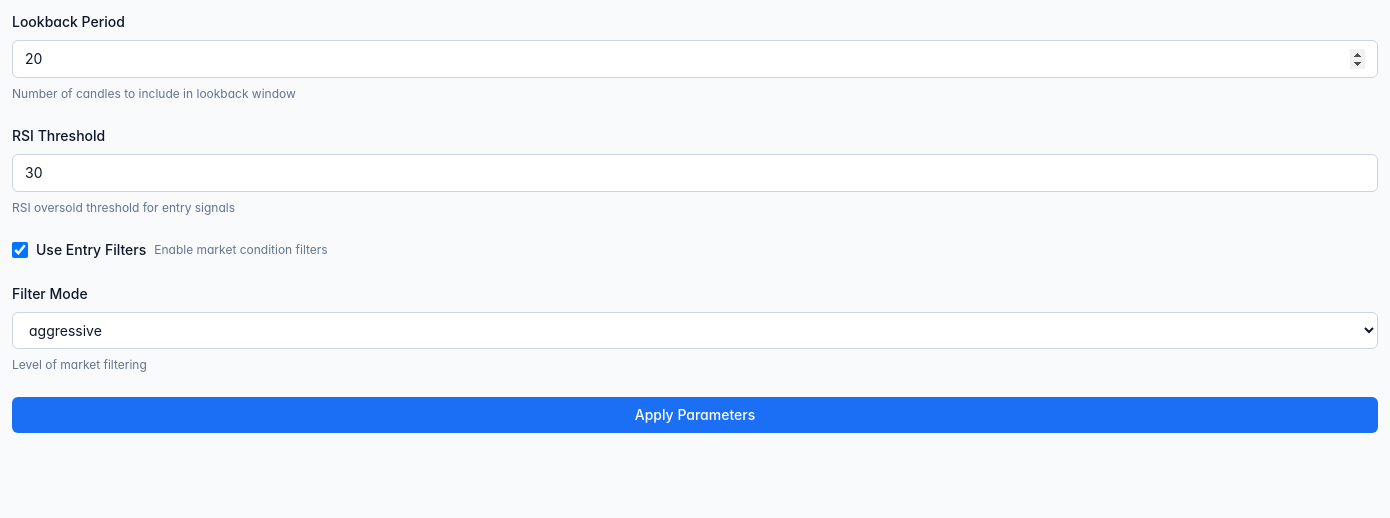
it: ParameterTuning › validation and submission › shows validation error when min > max (contradictory bounds)
The image size is (1390, 518).
Replace the text in the number field labelled "Lookback Period" with "600" at (695, 59), box [12,40,1378,78]
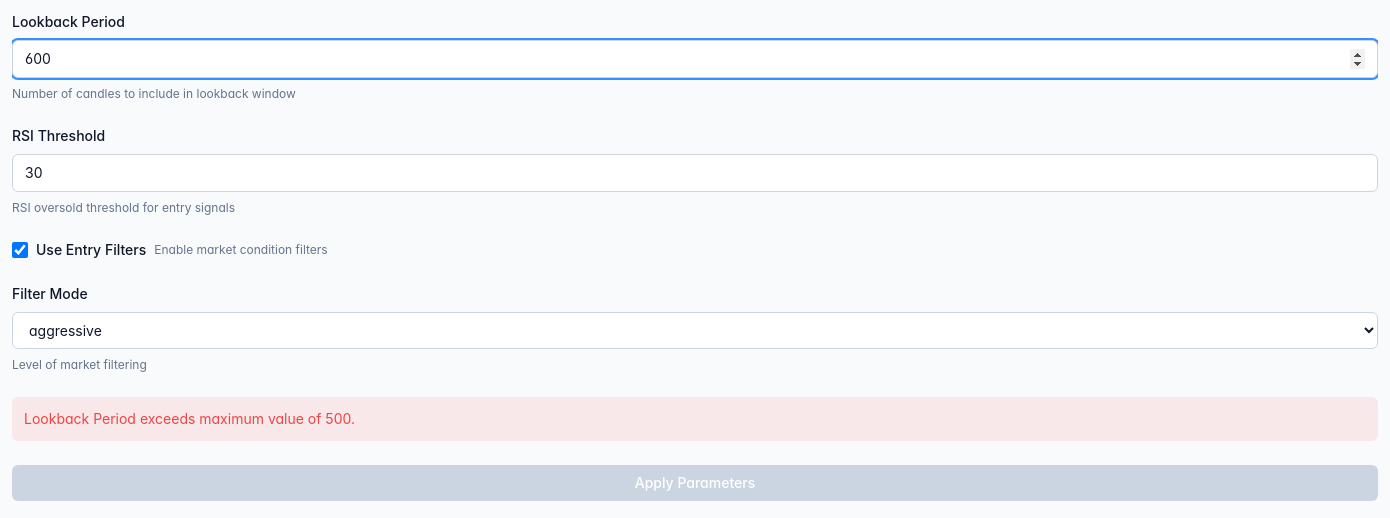
expect the text "Lookback Period exceeds maximum value of 500." is shown: met, box [12,397,1378,441]
